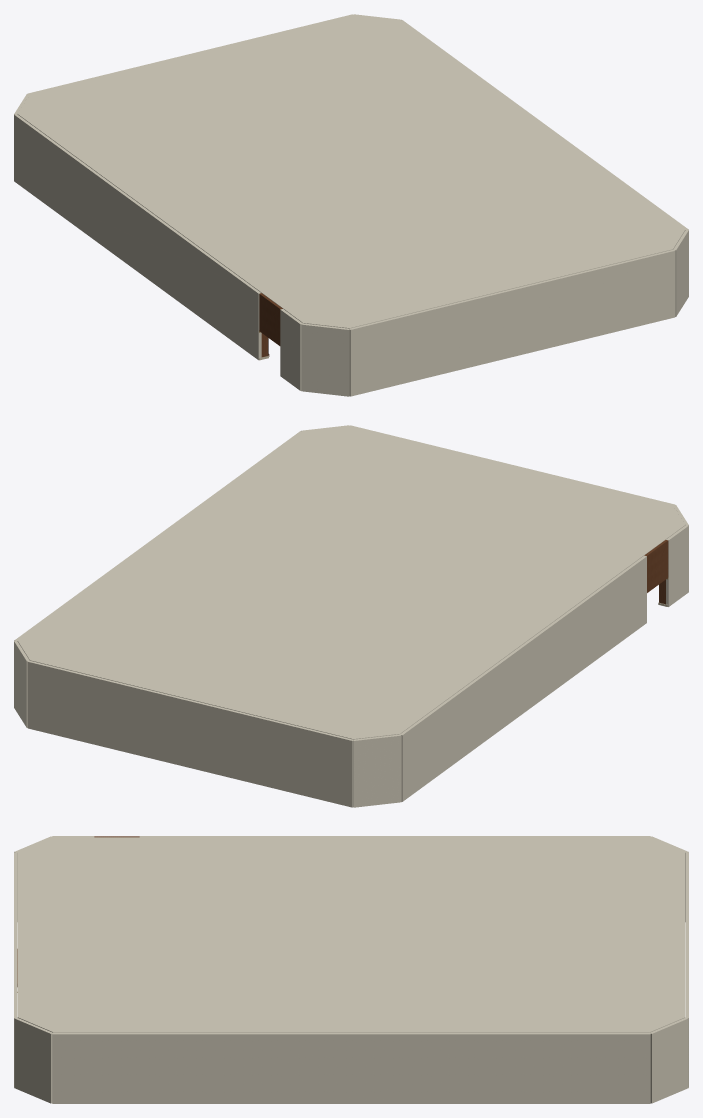
The model's file is WP13_cinema1.glb.
The picture shows the model from 3 angles, top to bottom: view 1: azimuth 30°, elevation 25°; view 2: azimuth 150°, elevation 25°; view 3: azimuth 270°, elevation 25°; orthographic projection. The views are drawn at different scales.
Parts seen in each view (by area): view 1: CINEMA_ROOF_top77_75, OPAQUE_chamfered_enclosure.005, WEST_forward_panel, OPAQUE_chamfered_enclosure.006, WEST_rear_panel, OPAQUE_chamfered_enclosure.004, OPAQUE_chamfered_enclosure.003, PORTAL_deep_lintel, OPAQUE_chamfered_enclosure.001; view 2: CINEMA_ROOF_top77_75, OPAQUE_chamfered_enclosure.001, WEST_forward_panel, OPAQUE_chamfered_enclosure, WEST_rear_panel, OPAQUE_chamfered_enclosure.002, OPAQUE_chamfered_enclosure.003, PORTAL_deep_lintel, OPAQUE_chamfered_enclosure.005; view 3: CINEMA_ROOF_top77_75, OPAQUE_chamfered_enclosure.003, OPAQUE_chamfered_enclosure.002, OPAQUE_chamfered_enclosure.004, WEST_forward_panel, OPAQUE_chamfered_enclosure.001, OPAQUE_chamfered_enclosure.005.
Part boxes in pixels (x1,y1,x2,y2): CINEMA_ROOF_top77_75: (17,15,685,328); OPAQUE_chamfered_enclosure.005: (349,249,675,396); WEST_forward_panel: (14,114,261,360); OPAQUE_chamfered_enclosure.006: (301,323,349,396); WEST_rear_panel: (280,309,302,390); OPAQUE_chamfered_enclosure.004: (673,229,688,316); OPAQUE_chamfered_enclosure.003: (401,20,688,229); PORTAL_deep_lintel: (259,293,282,345); OPAQUE_chamfered_enclosure.001: (28,14,353,94); CINEMA_ROOF_top77_75: (17,426,685,739); OPAQUE_chamfered_enclosure.001: (27,661,353,807); WEST_forward_panel: (400,555,646,801); OPAQUE_chamfered_enclosure: (353,734,401,807); WEST_rear_panel: (666,525,688,606); OPAQUE_chamfered_enclosure.002: (14,641,29,727); OPAQUE_chamfered_enclosure.003: (14,431,302,640); PORTAL_deep_lintel: (644,540,668,592); OPAQUE_chamfered_enclosure.005: (350,425,674,505); CINEMA_ROOF_top77_75: (17,837,685,1032); OPAQUE_chamfered_enclosure.003: (52,1032,650,1103); OPAQUE_chamfered_enclosure.002: (650,1017,688,1103); OPAQUE_chamfered_enclosure.004: (14,1017,52,1103); WEST_forward_panel: (139,836,650,837); OPAQUE_chamfered_enclosure.001: (685,852,688,1087); OPAQUE_chamfered_enclosure.005: (14,852,17,1087).
Size of the model in its own units: 49.96 by 8.25 by 71.96.
Materials: 36 (33 with a texture image).
